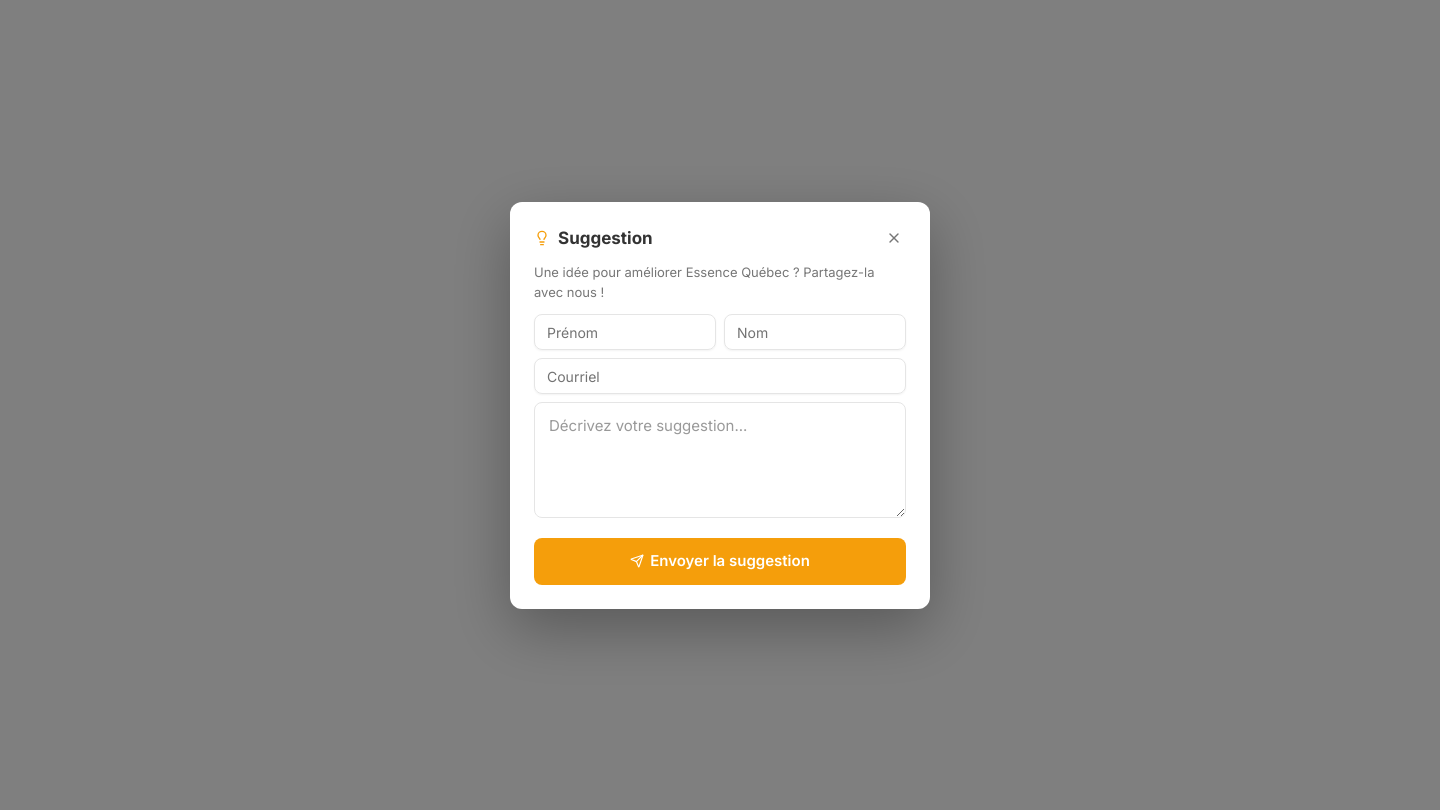
Test: SuggestionModal › affiche le message de succès après un envoi réussi
Type "Marie" into the field with placeholder "Prénom" at point(625, 332), box [534,314,716,350]
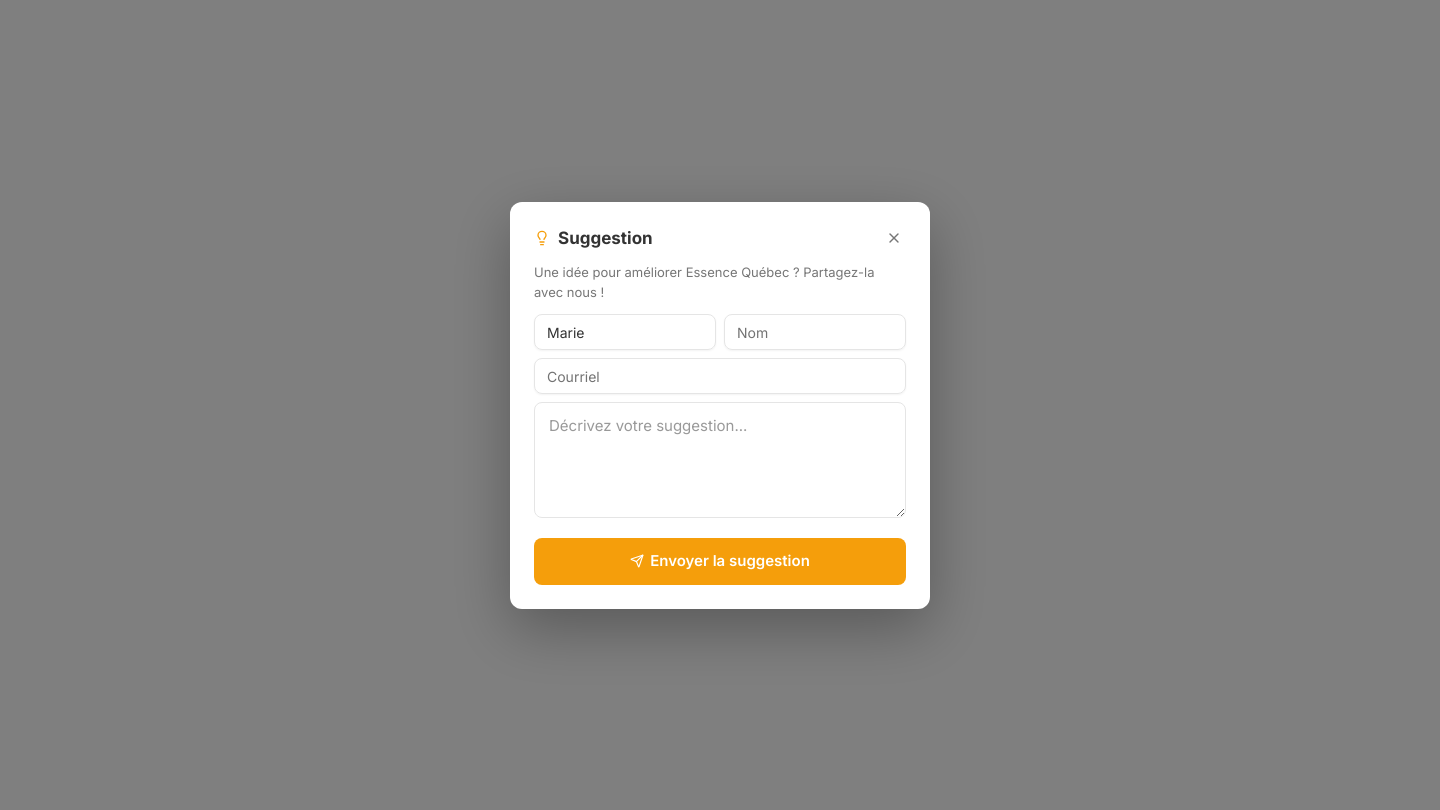
Type "Gagnon" into the field with placeholder "Nom" at point(815, 332), box [724,314,906,350]
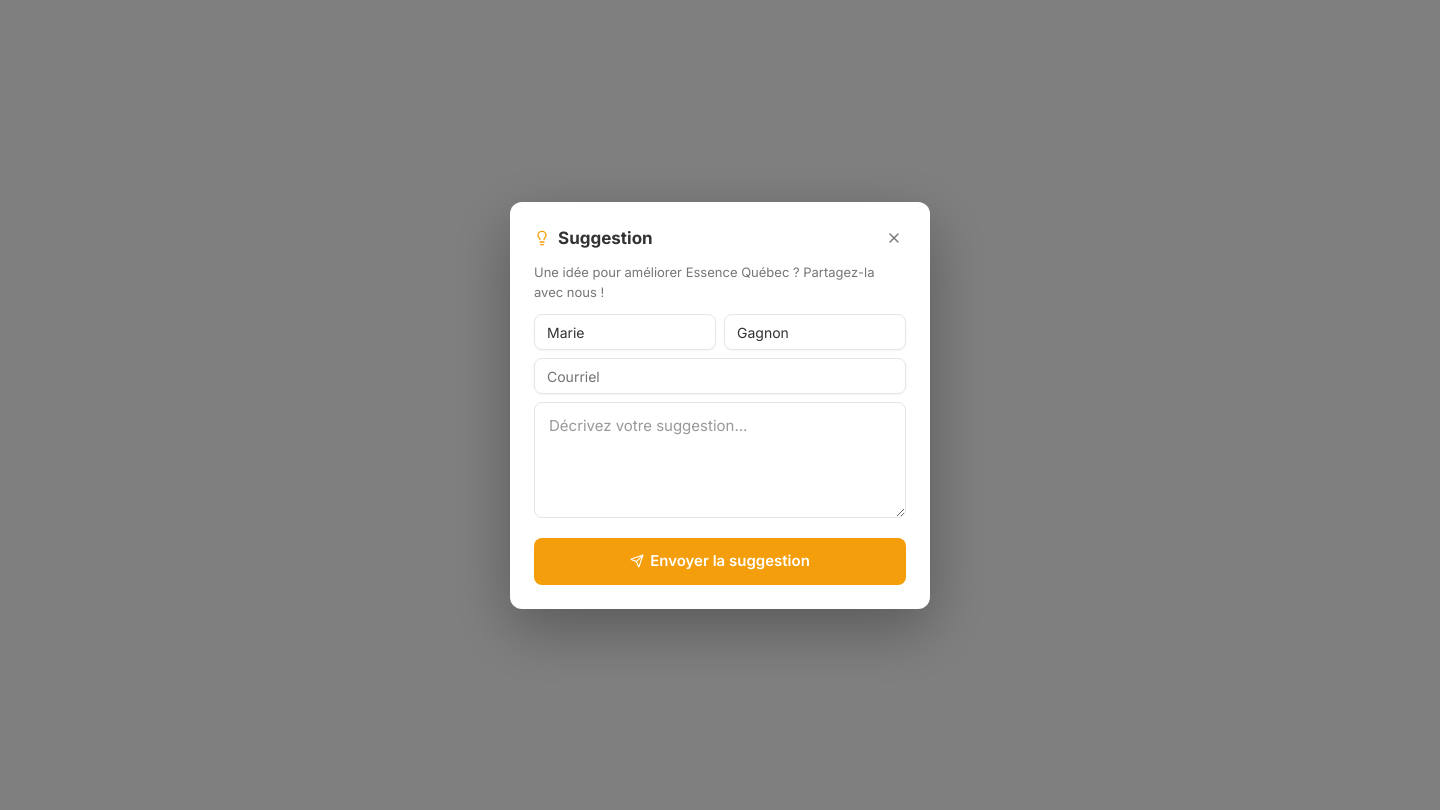
Type "marie@example.com" into the field with placeholder "Courriel" at point(720, 376), box [534,358,906,394]
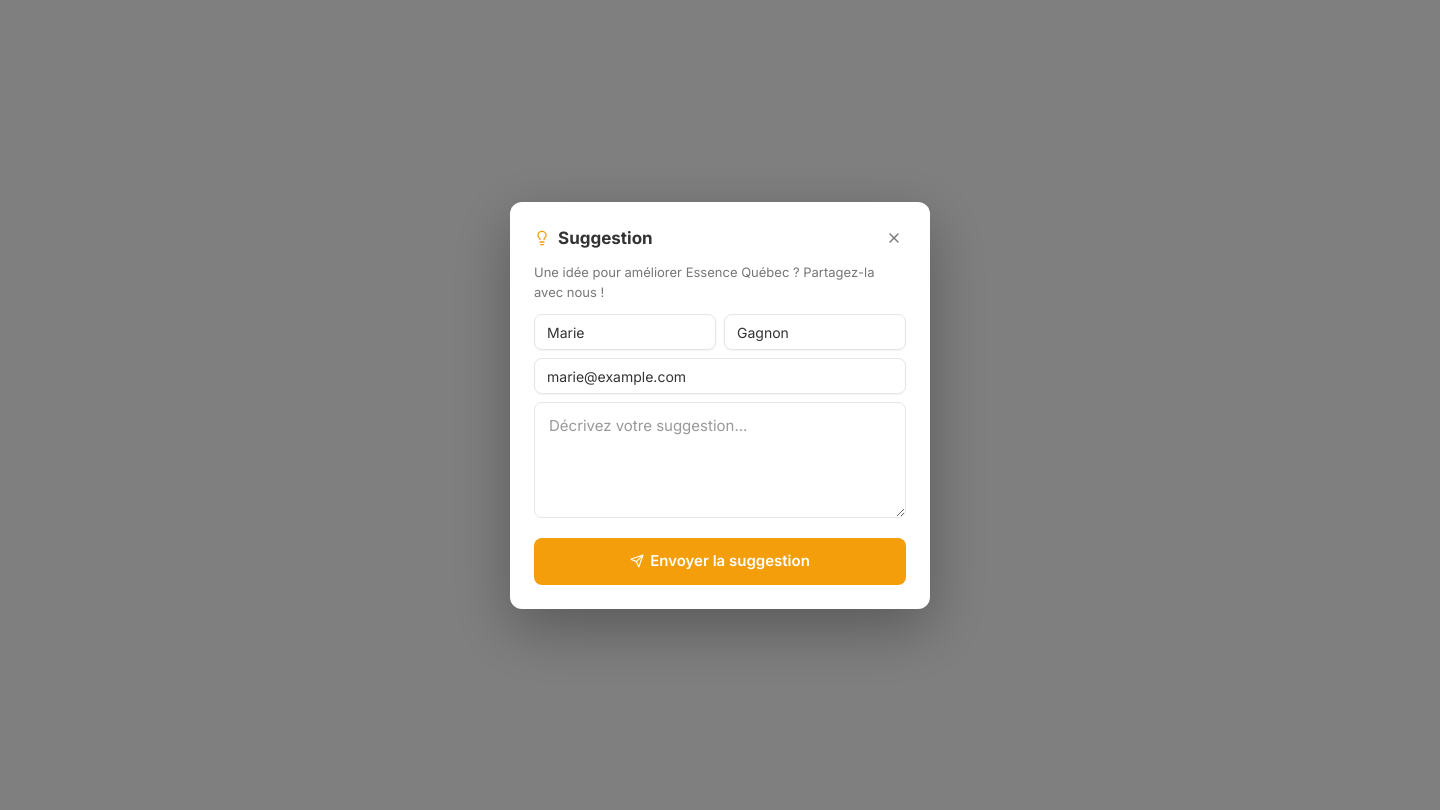
Type "Ajouter un filtre par marque de station" into the text box with placeholder "Décrivez votre suggestion..." at point(720, 460), box [534,402,906,518]
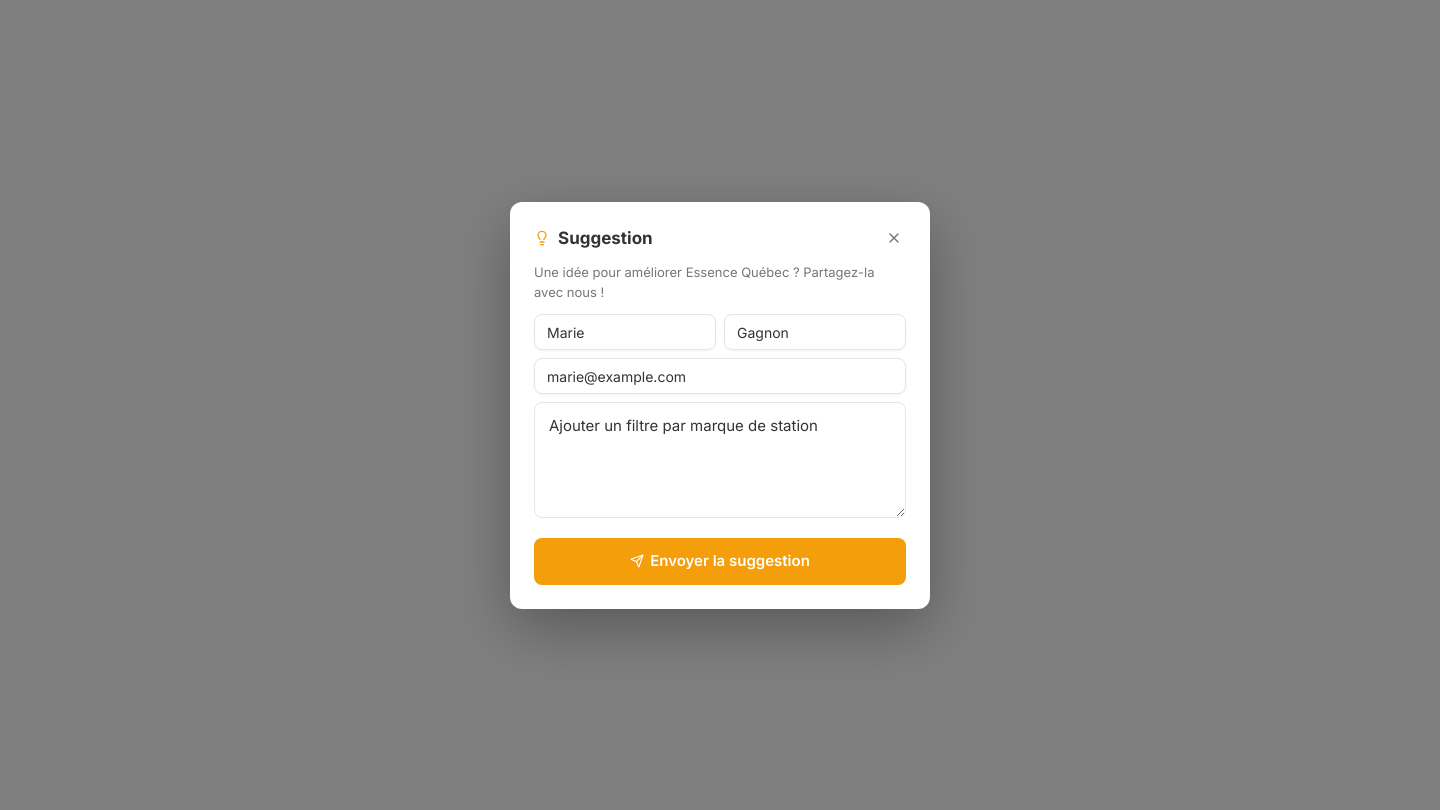
Click the button "Envoyer la suggestion" at point(720, 561), box [534,538,906,584]
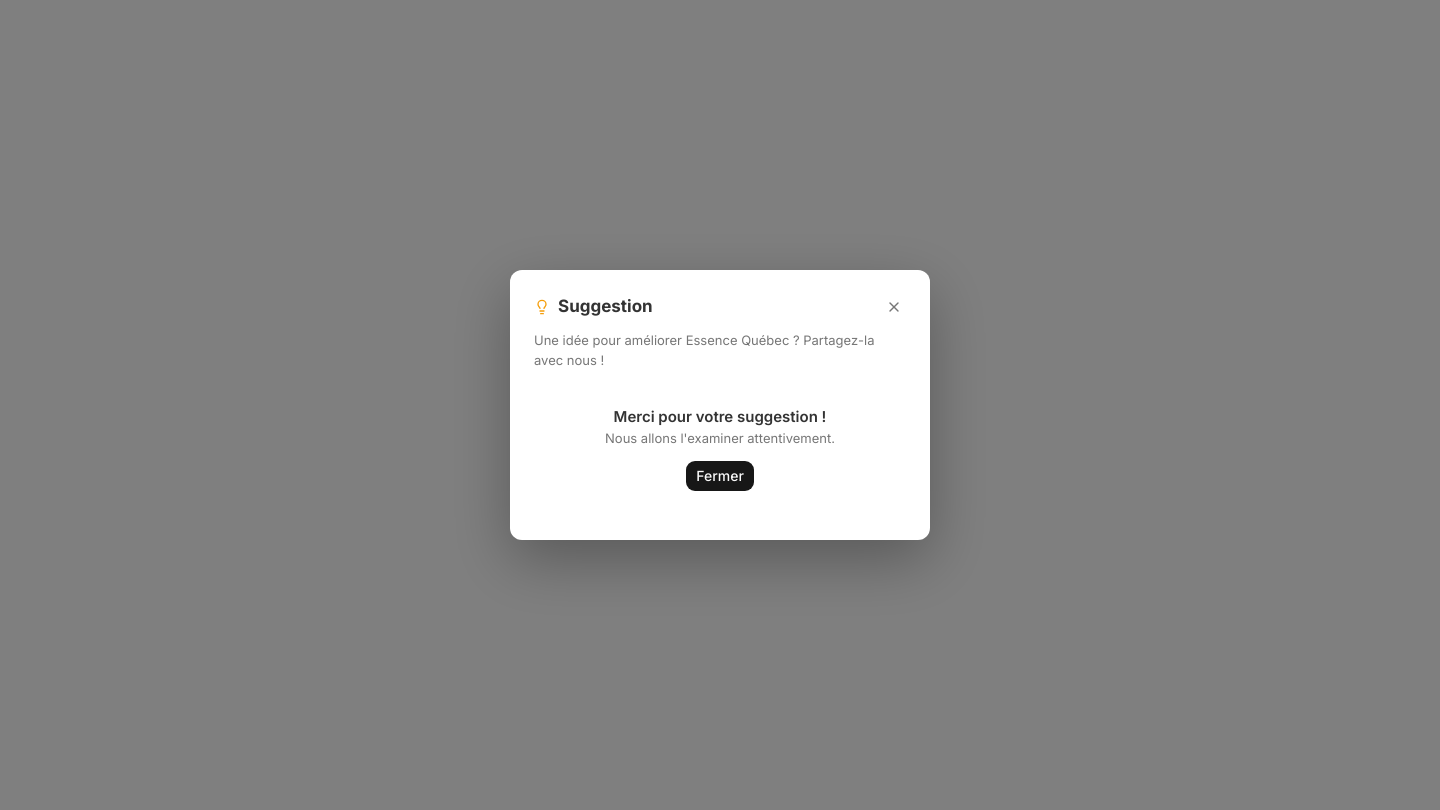
Result: the text "Merci pour votre suggestion !" is shown at [614,407,826,426]
